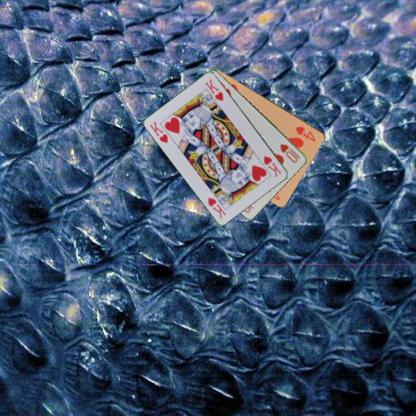10h: (277, 141, 302, 164)
4h: (293, 124, 317, 142)
Kh: (261, 153, 283, 179), (147, 119, 169, 144)
